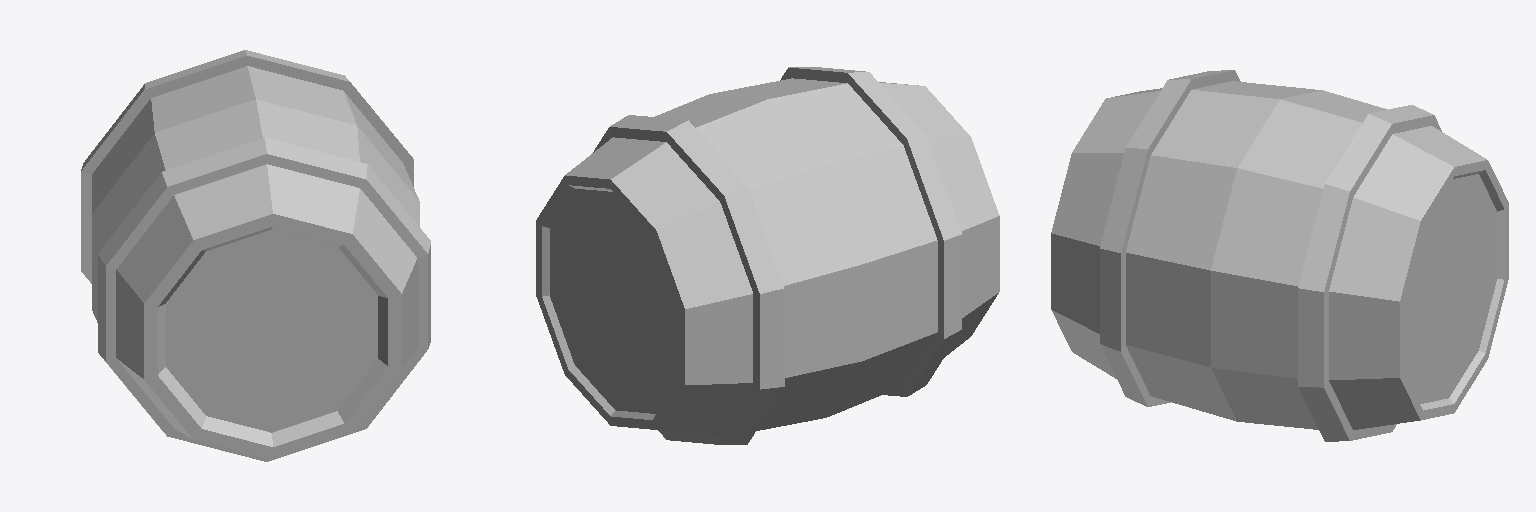
Rendered from barril_3.obj.
The picture shows the model from 3 angles: view 1: azimuth 30°, elevation 25°; view 2: azimuth 150°, elevation 25°; view 3: azimuth 270°, elevation 25°; orthographic projection.
Visible parts, largest first — view 1: Barril.002_Cylinder.045; view 2: Barril.002_Cylinder.045; view 3: Barril.002_Cylinder.045.
Part boxes in pixels (left/top/right/bottom): Barril.002_Cylinder.045: left=81, top=50, right=430, bottom=461; Barril.002_Cylinder.045: left=536, top=67, right=999, bottom=444; Barril.002_Cylinder.045: left=1051, top=70, right=1508, bottom=441.
Size of the model in its own units: 1.03 by 0.9152 by 1.19.